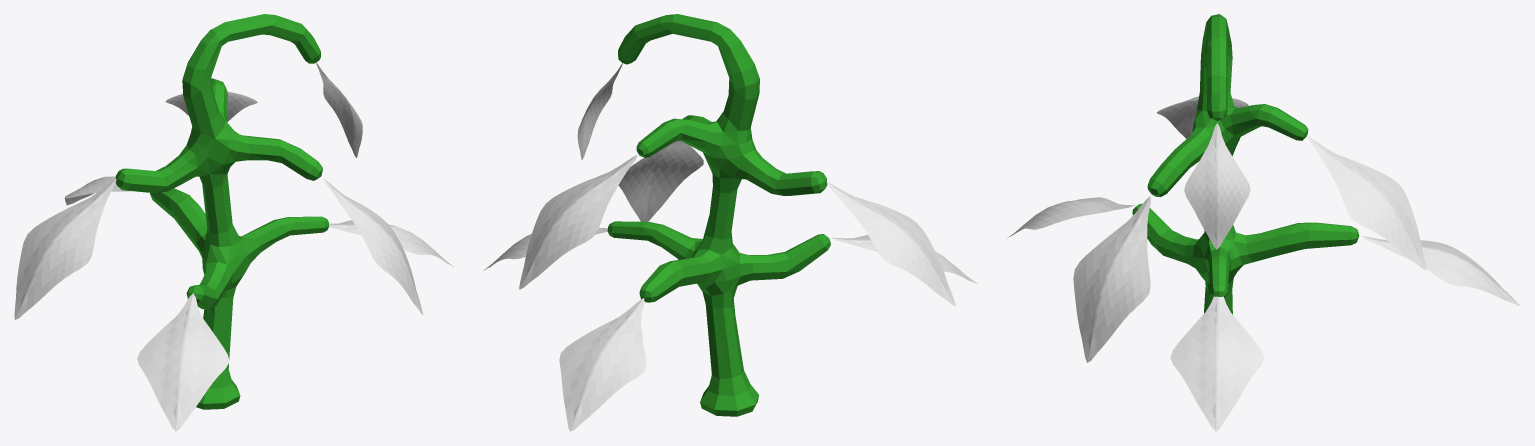
The model's file is cropState2.fbx.
3 views of the same model, side by side, from view 1: azimuth 30°, elevation 25°; view 2: azimuth 150°, elevation 25°; view 3: azimuth 270°, elevation 25° (orthographic).
Visible parts, largest first — view 1: tallo2, hojas2; view 2: tallo2, hojas2; view 3: hojas2, tallo2.
Part boxes in pixels (x1,y1,x2,y2): tallo2: (115,14,329,409); hojas2: (14,62,453,431); tallo2: (607,14,830,416); hojas2: (483,63,977,431); hojas2: (1007,96,1520,431); tallo2: (1132,14,1359,314).
Size of the model in its own units: 192 by 152 by 187.
